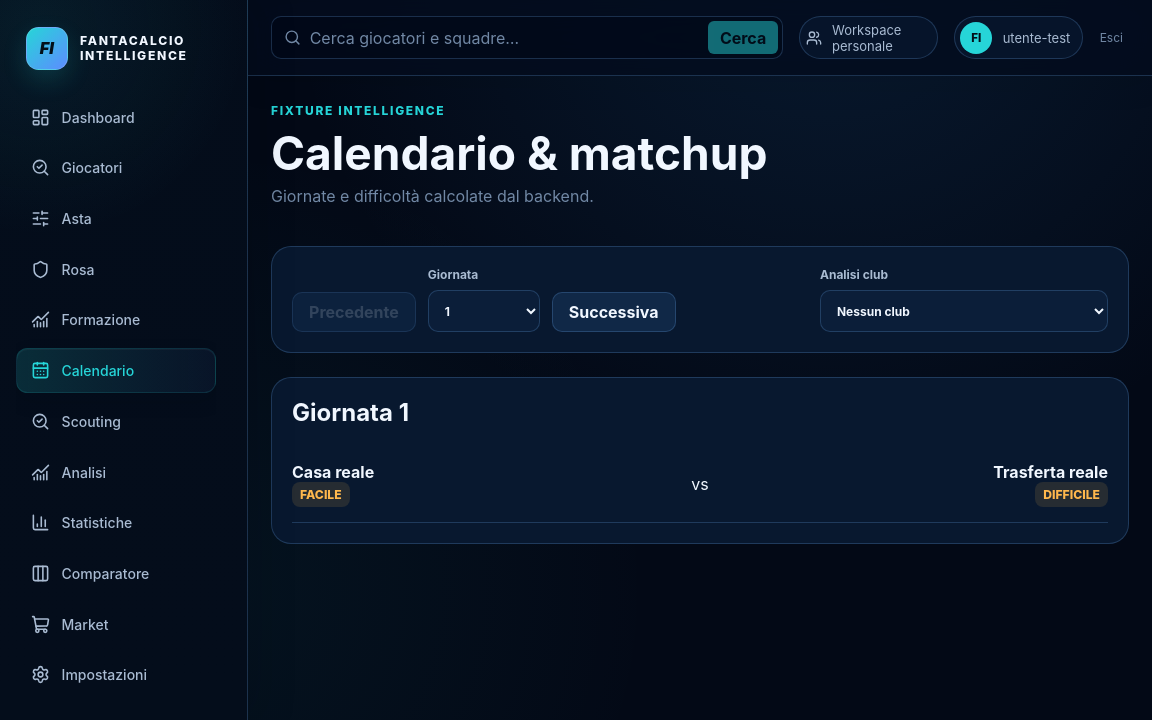
F12 Calendar › renderizza fixture, difficoltà e naviga giornata
The width and height of the screenshot is (1152, 720).
Expected: the text "Casa reale" is shown, [292, 462, 374, 482]
Expected: the text "FACILE" is shown, [292, 482, 350, 507]
Click the button "Successiva" at point(614, 312), box [552, 292, 676, 332]
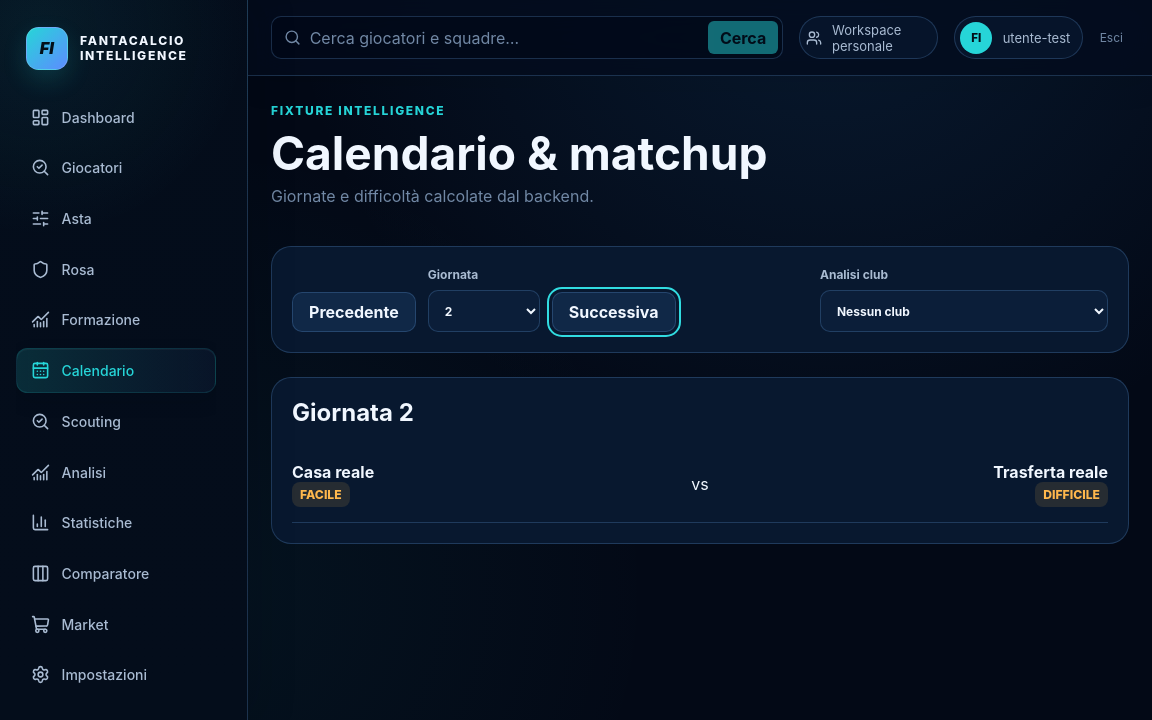
Expected: the dropdown labelled "Giornata" shows "2", [428, 290, 540, 332]
